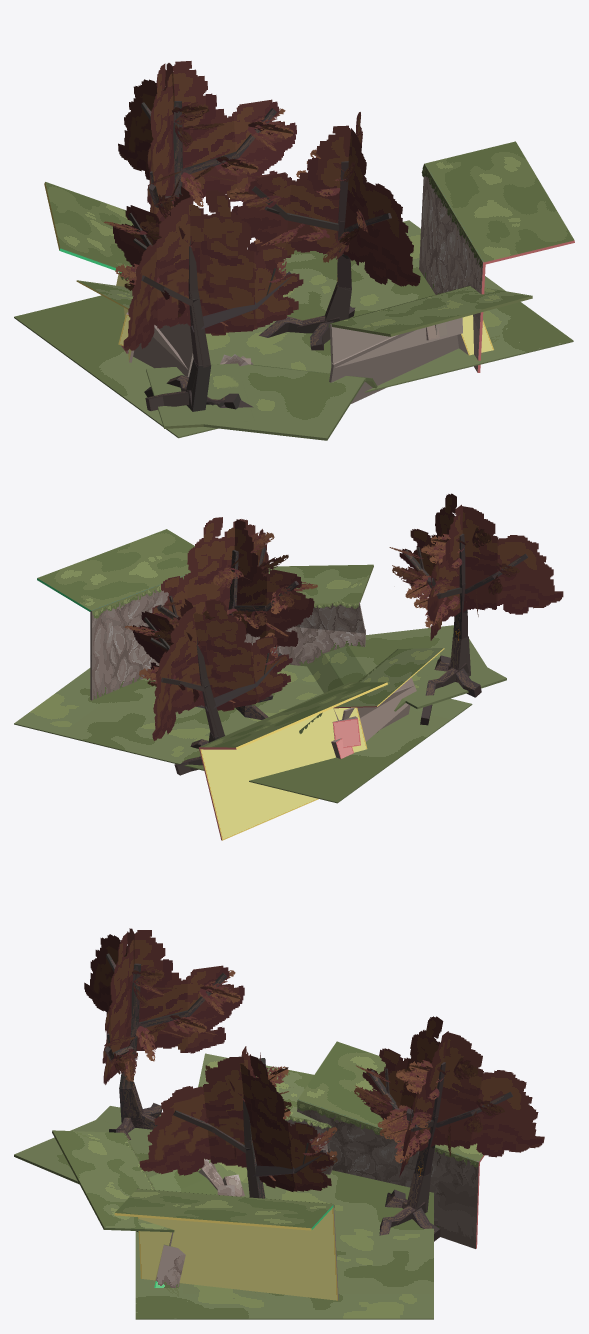
The model's file is Environment.gltf.
3 renders of one model, top to bottom at view 1: azimuth 30°, elevation 25°; view 2: azimuth 150°, elevation 25°; view 3: azimuth 270°, elevation 25°, orthographic. The views are drawn at different scales.
Parts seen in each view (by area): view 1: cube (×28), grasstop; view 2: cube (×31), grasstop; view 3: cube (×25), grasstop.
Boxes of the visible parts, bbox=[...] form: cube (×28): bbox=[14, 61, 574, 440]; grasstop: bbox=[330, 286, 532, 336]; cube (×31): bbox=[14, 493, 563, 840]; grasstop: bbox=[268, 564, 373, 603]; cube (×25): bbox=[14, 930, 544, 1319]; grasstop: bbox=[52, 1130, 174, 1232].
Bounding box in the file's own units: 27.81 × 15.94 × 28.21.
17 materials, 17 textured.
